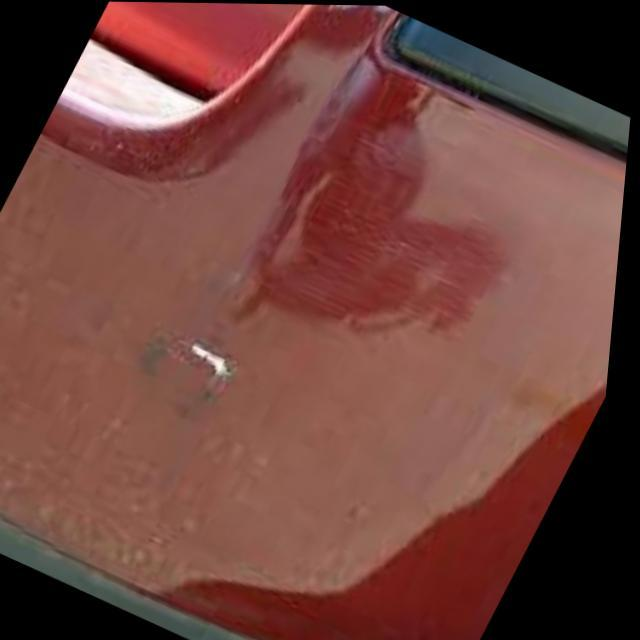rub: (143, 94, 627, 407)
